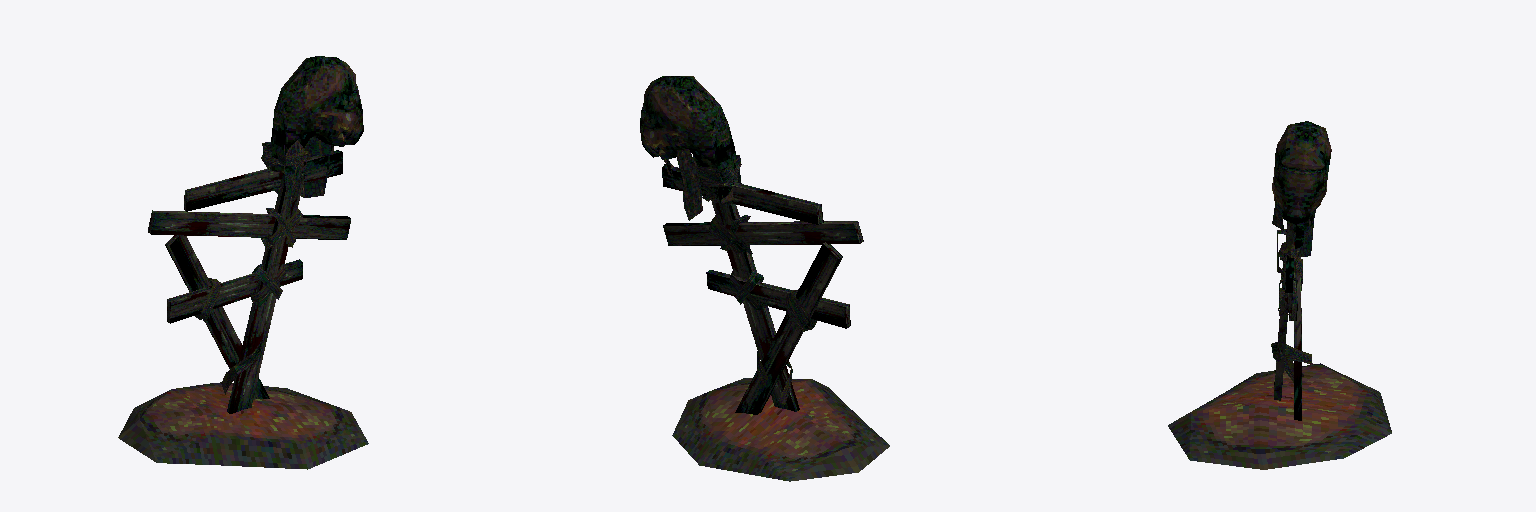
3 views of the same model, side by side, from view 1: azimuth 30°, elevation 25°; view 2: azimuth 150°, elevation 25°; view 3: azimuth 270°, elevation 25° (orthographic).
Bounding box in the file's own units: 3.37 × 4.82 × 2.87.
1 materials, 1 textured.